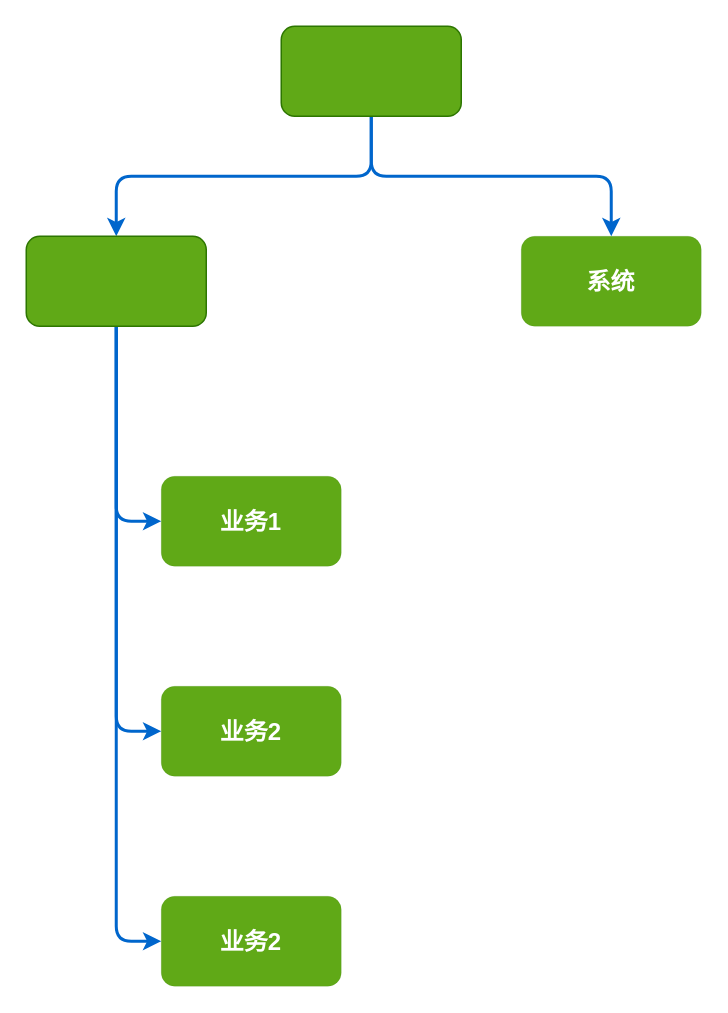
The diagram is 728 pixels wide and 1013 high, and some of its shapes have lost their labels. Here are the shapes that lost their labels. From the top down, the box of each, then its label:
(280, 25, 461, 116): 酒店告警
(25, 235, 206, 326): 业务
